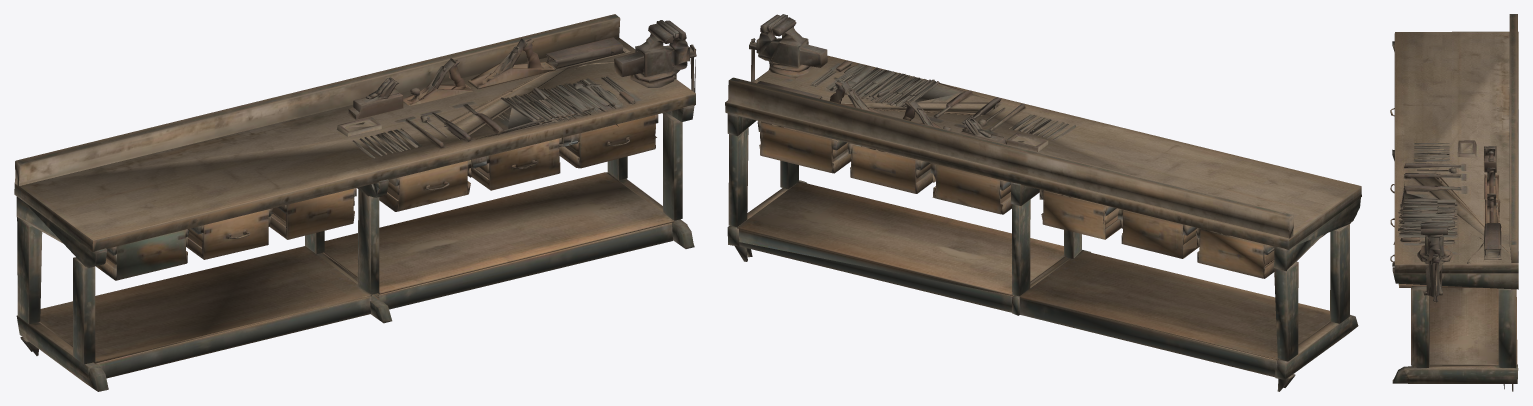
The model's file is bench.glb.
3 views of the same model, side by side, from view 1: azimuth 30°, elevation 25°; view 2: azimuth 150°, elevation 25°; view 3: azimuth 270°, elevation 25° (orthographic). The views are drawn at different scales.
Parts seen in each view (by area): view 1: bench; view 2: bench; view 3: bench.
Part boxes in pixels (box(x1,y1,x2,y2)): bench: box(14, 14, 696, 391); bench: box(725, 14, 1361, 391); bench: box(1390, 14, 1518, 391).
Size of the model in its own units: 2.85 by 0.95 by 0.6392.
1 material, 1 textured.
